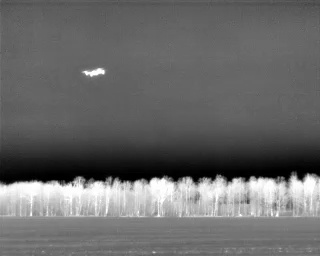DRONE: (78, 63, 110, 82)
